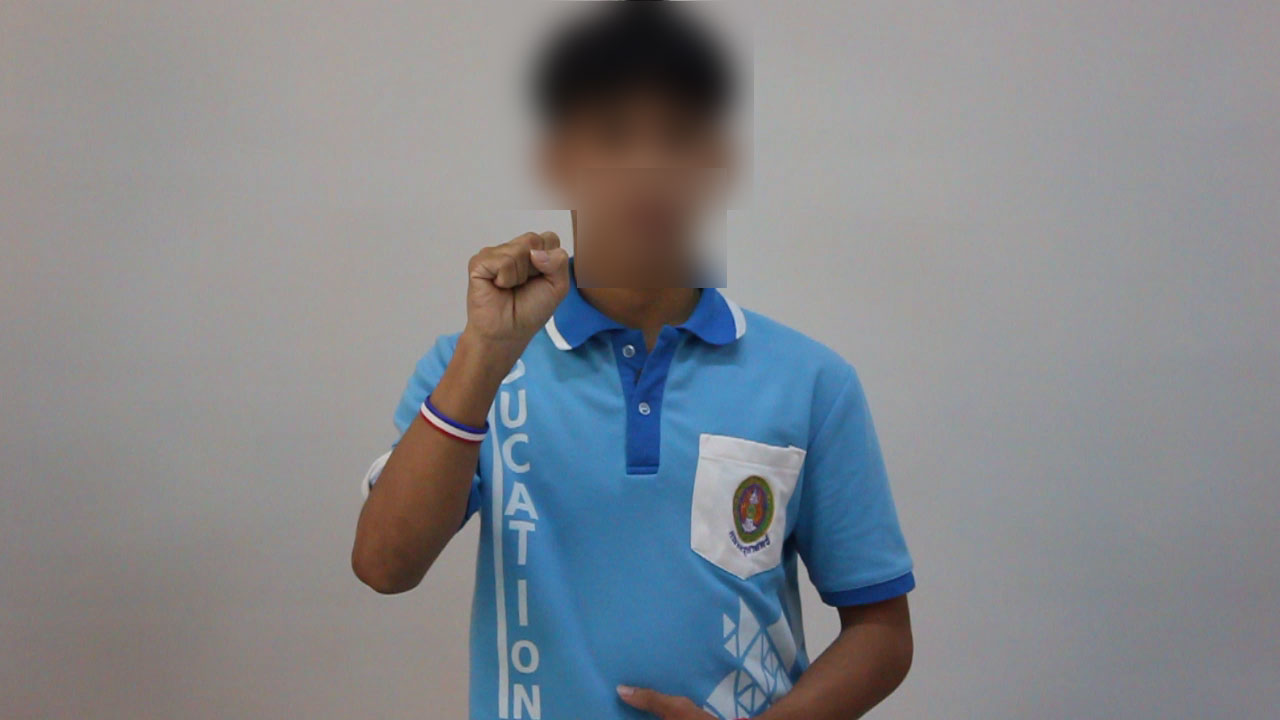sor: (447, 219, 581, 370)
